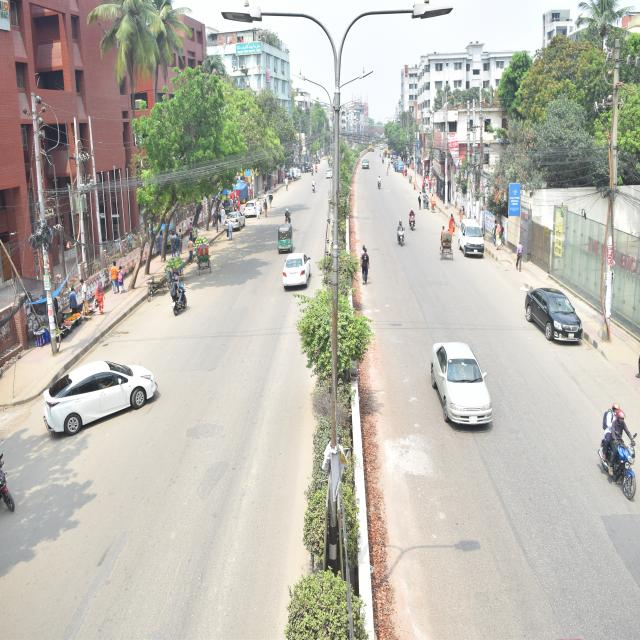car: (14, 349, 174, 438), (416, 314, 506, 438), (511, 271, 604, 366), (266, 248, 322, 312), (458, 198, 488, 280), (222, 184, 264, 226), (319, 155, 350, 191), (219, 203, 245, 239), (360, 156, 372, 183)
motorbike: (571, 377, 640, 513), (160, 269, 197, 337), (386, 209, 411, 261), (372, 171, 400, 209), (404, 194, 421, 241), (280, 204, 294, 244), (310, 175, 322, 216)
